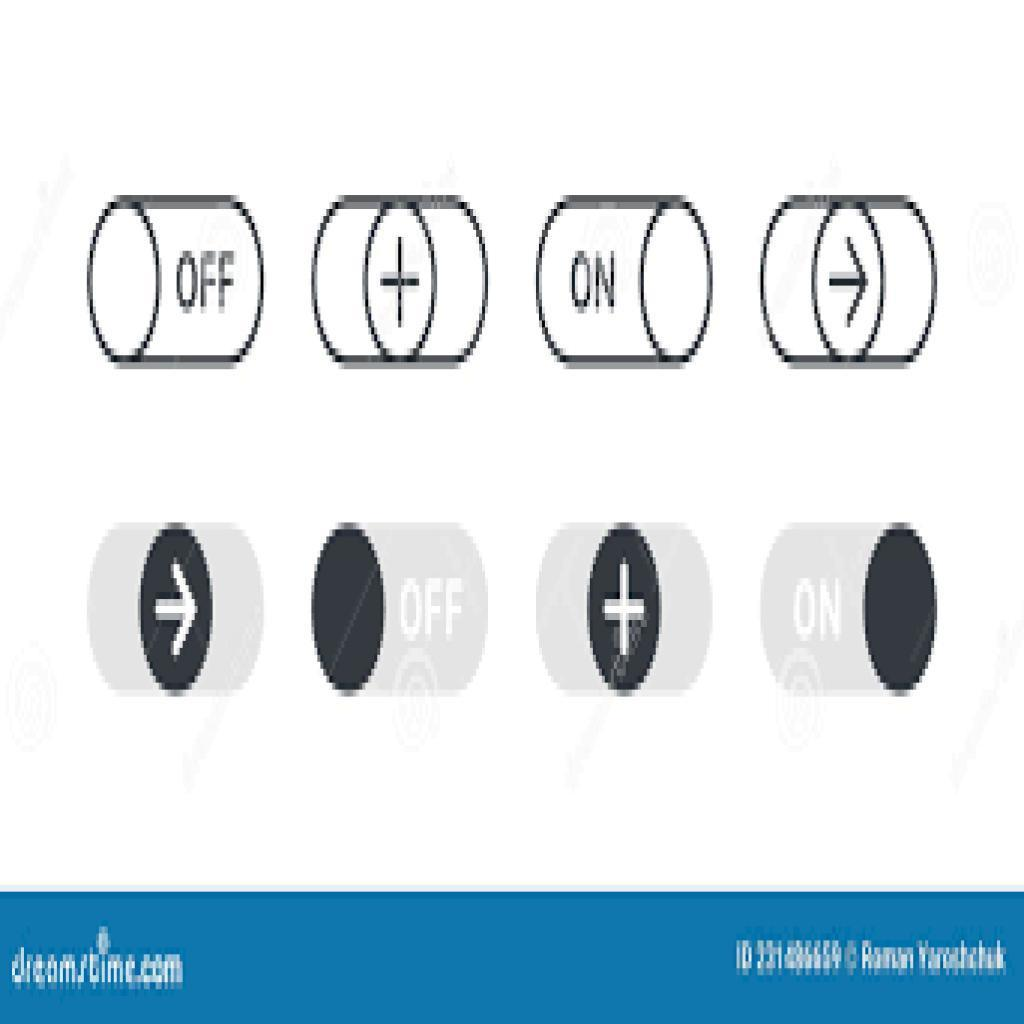switch: (89, 195, 269, 373), (537, 523, 715, 697), (308, 196, 490, 365), (87, 528, 270, 695), (764, 525, 939, 699), (759, 197, 940, 365), (313, 521, 486, 690), (538, 195, 711, 364)
